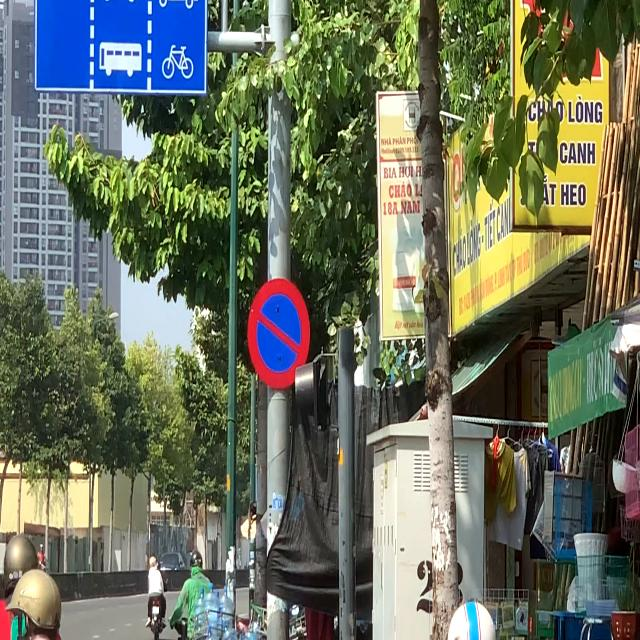P.131a: (243, 272, 313, 402)
